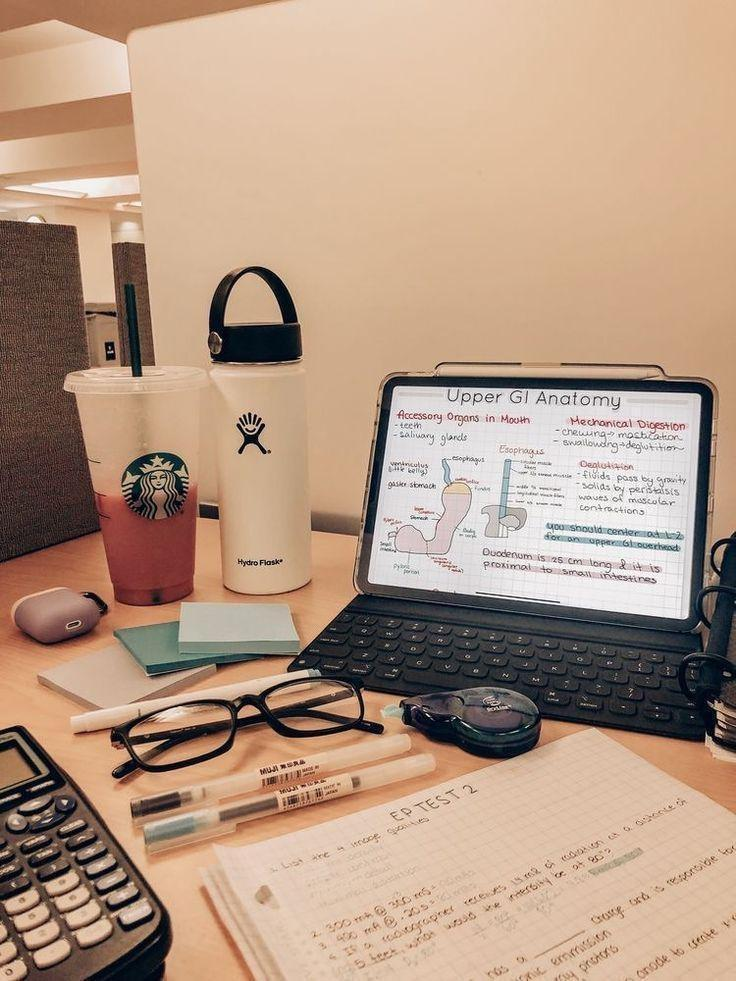cup-disposable: (62, 364, 207, 608)
gym bottle: (205, 264, 317, 598)
